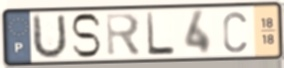4: (182, 7, 214, 58)
C: (221, 9, 249, 54)
L: (144, 11, 177, 58)
R: (104, 11, 143, 59)
S: (69, 12, 103, 60)
U: (31, 12, 69, 62)
